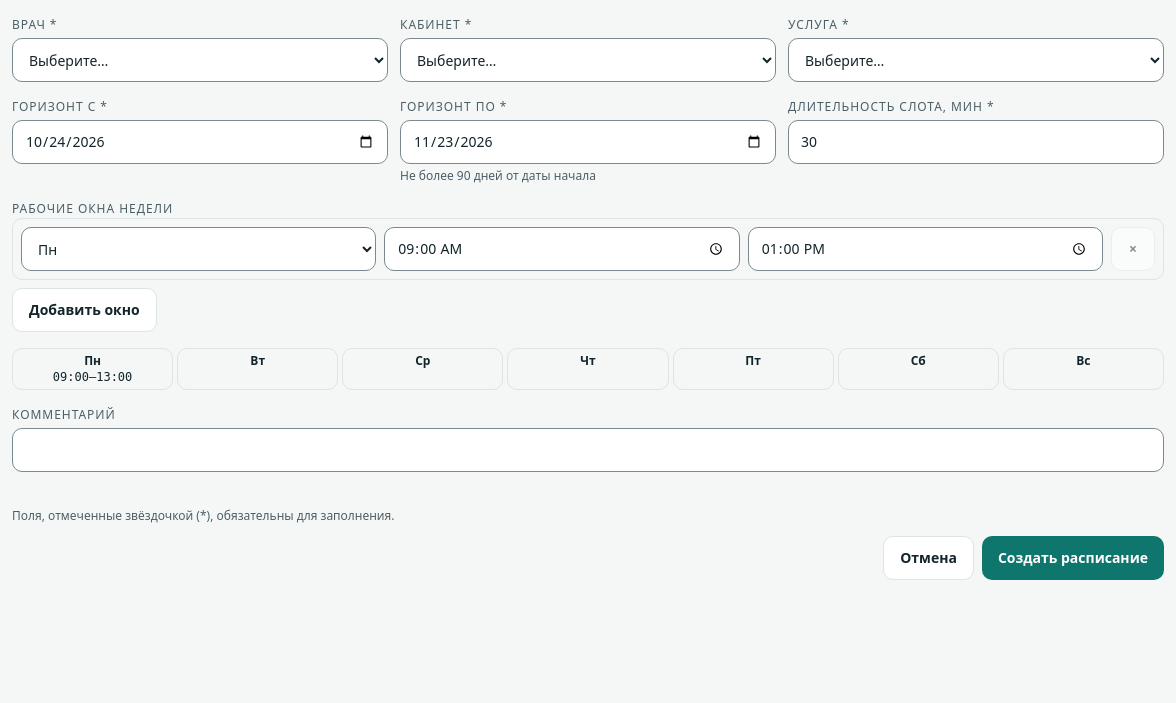
Scenario: ScheduleEditor (create) › should highlight the windows and explain SCHEDULE_OVERLAP when the server finds another schedule of the doctor
Select "Иванова Мария" in the dropdown labelled "Врач *": [200, 60] box [12, 38, 388, 82]
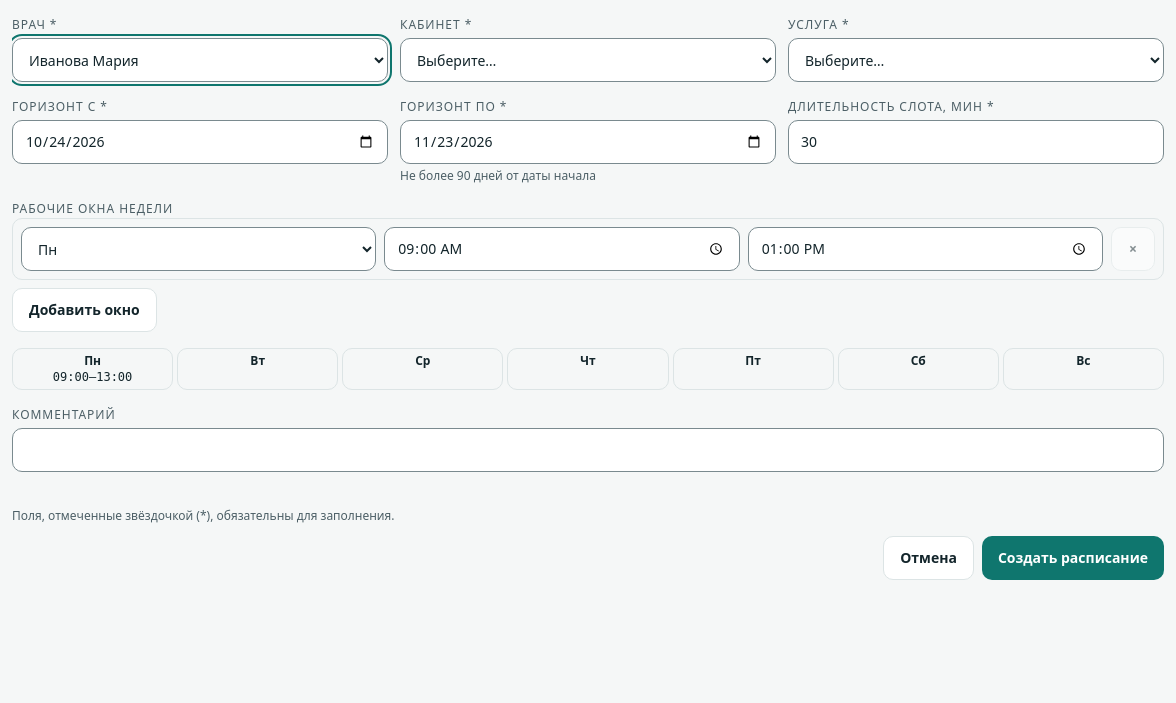
Select "Кабинет 101 (101)" in the dropdown labelled "Кабинет *": [588, 60] box [400, 38, 776, 82]
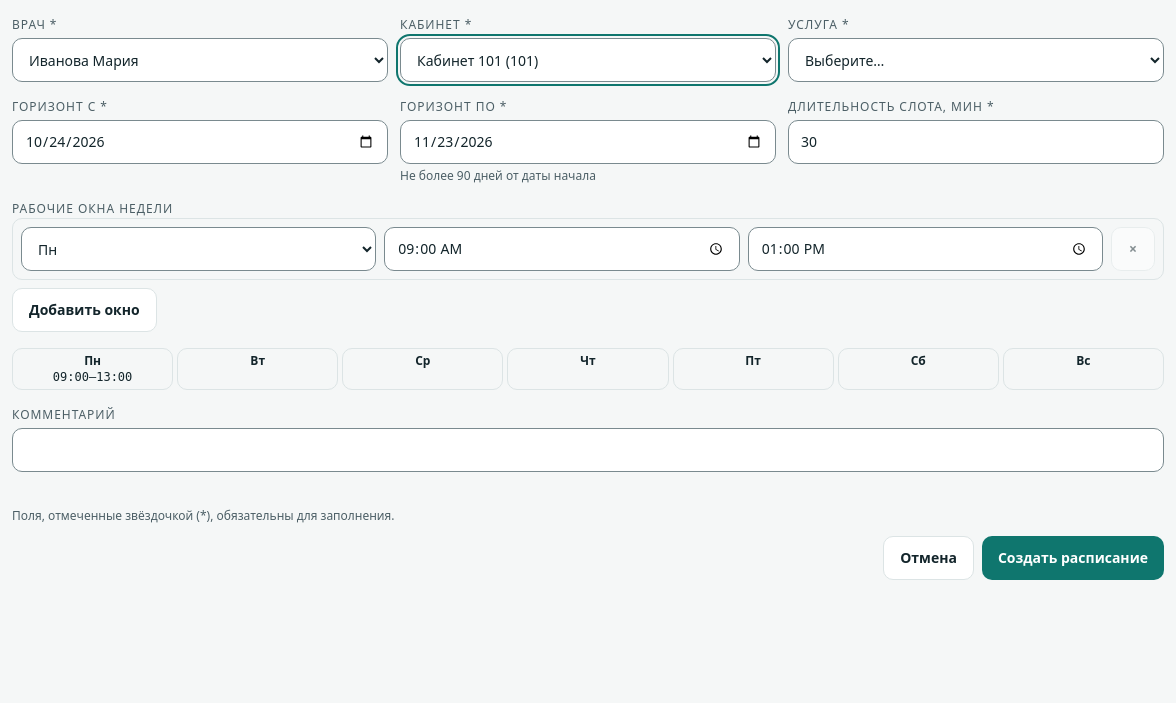
Select "Приём терапевта" in the dropdown labelled "Услуга *": [976, 60] box [788, 38, 1164, 82]
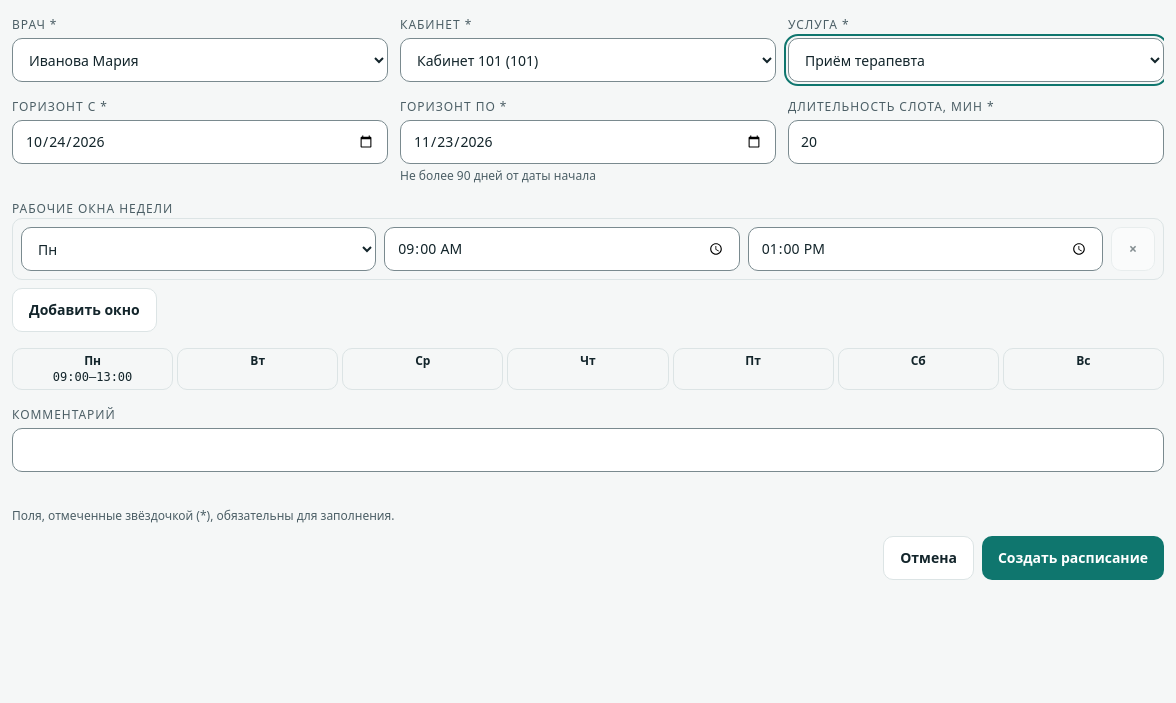
Click the button "Создать расписание": [1073, 558] box [982, 536, 1164, 580]
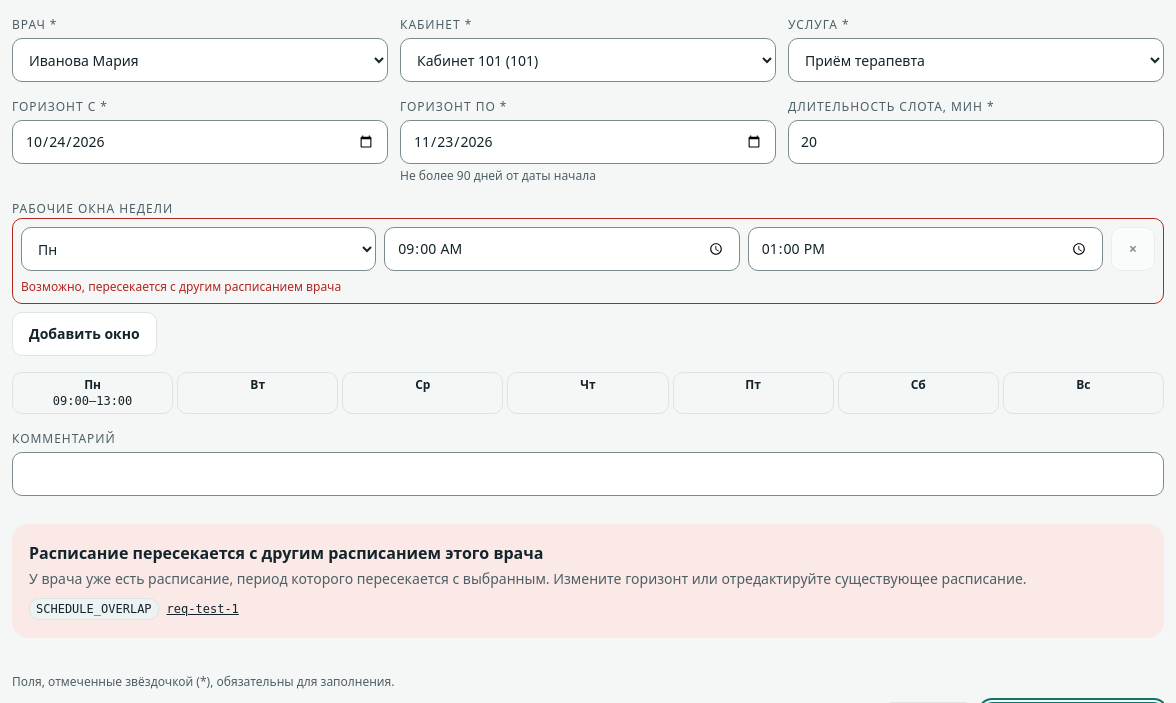
Expected: the message shows "Расписание пересекается с другим расписанием этого врача", [29, 542, 543, 564]
Expected: the message shows "У врача уже есть расписание", [29, 569, 1027, 588]
